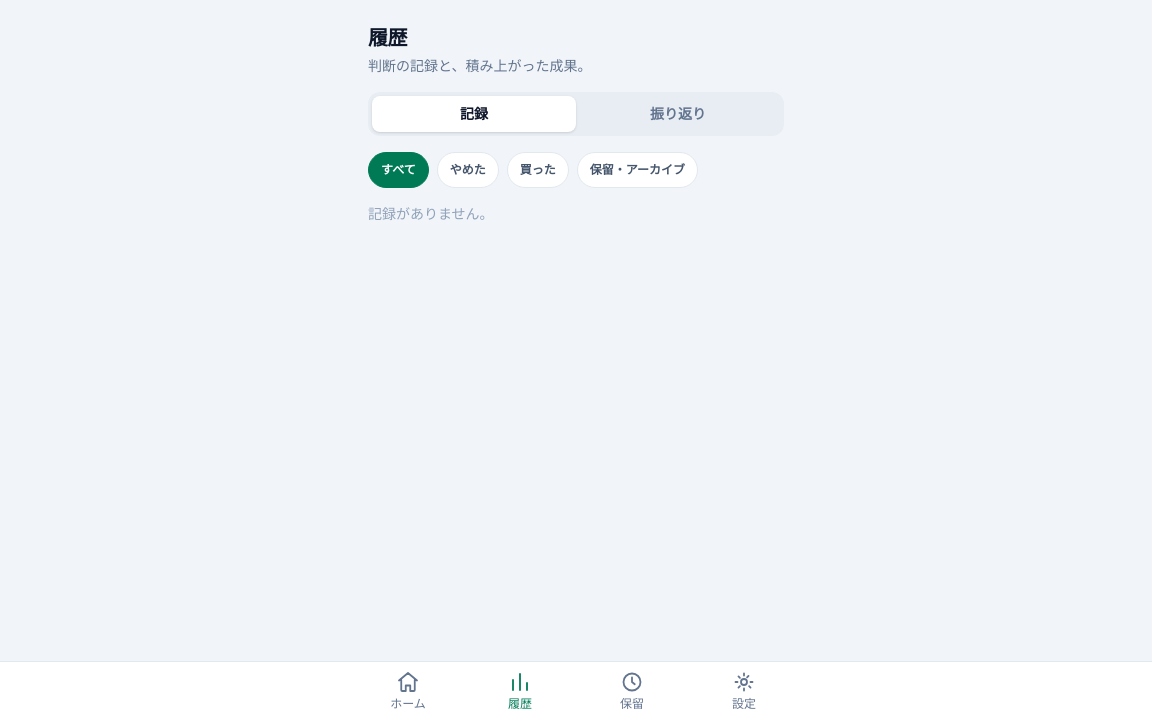
Test: 履歴画面: タブ切り替え › 「記録」タブが既定で表示され、「振り返り」タブに切り替えられる
Check: the button "すべて" is shown, box [368,152,429,188]
Click the tab "振り返り".
click(678, 114)  # box [576,96,780,132]
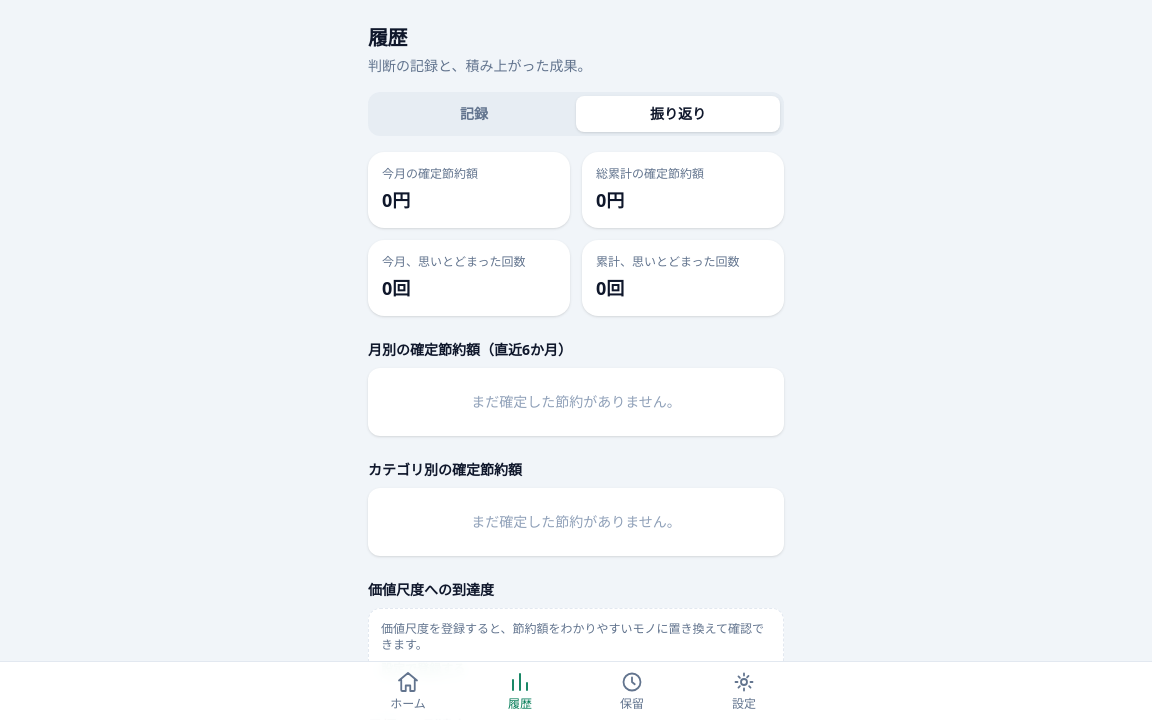
Check: the heading "月別の確定節約額（直近6か月）" is shown, box [368,340,572,359]
Check: the button "すべて" is gone
